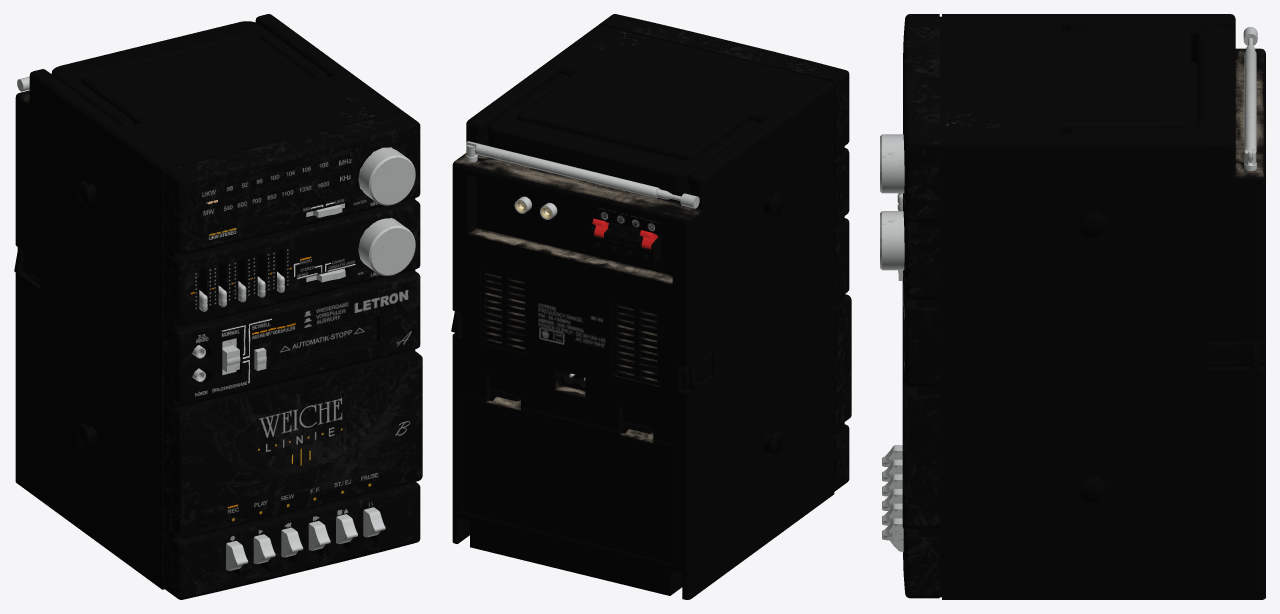
The picture shows the model from 3 angles, left to right: view 1: azimuth 30°, elevation 25°; view 2: azimuth 150°, elevation 25°; view 3: azimuth 270°, elevation 25°; orthographic projection. The views are drawn at different scales.
Parts seen in each view (by area): view 1: #APL0001_Body_38, #APL0001_Front_Face_30, #APL0001_Tape_Door_12, #APL0001_Handle_40, #APL0001_Tuner_35, Cylinder.004_37, #APL0001_Speed_5, #APL0001_Pause_7, #APL0001_Play_8; view 2: #APL0001_Body_38, #APL0001_Battery_Hatch_28, #APL0001_Front_Face_30, #APL0001_Handle_40, #APL0001_Grate_L_31, #APL0001_Grate_R_32, #APL0001_Antenna01_24, #APL0001_External_Speakers_Out_29; view 3: #APL0001_Body_38, #APL0001_Front_Face_30, #APL0001_Handle_40, Cylinder.004_37, #APL0001_Tuner_35, #APL0001_Antenna01_24, #APL0001_Tape_Door_12, #APL0001_Pause_7.
Part boxes in pixels (<box>): #APL0001_Body_38: <box>14,14,415,589</box>; #APL0001_Front_Face_30: <box>163,112,420,599</box>; #APL0001_Tape_Door_12: <box>178,353,422,538</box>; #APL0001_Handle_40: <box>51,21,327,126</box>; #APL0001_Tuner_35: <box>358,147,415,205</box>; Cylinder.004_37: <box>358,218,415,275</box>; #APL0001_Speed_5: <box>222,338,240,374</box>; #APL0001_Pause_7: <box>363,507,385,537</box>; #APL0001_Play_8: <box>253,534,275,564</box>; #APL0001_Body_38: <box>451,25,844,599</box>; #APL0001_Battery_Hatch_28: <box>462,389,677,564</box>; #APL0001_Front_Face_30: <box>599,14,849,491</box>; #APL0001_Handle_40: <box>488,73,758,201</box>; #APL0001_Grate_L_31: <box>481,267,527,353</box>; #APL0001_Grate_R_32: <box>613,300,659,385</box>; #APL0001_Antenna01_24: <box>466,141,659,198</box>; #APL0001_External_Speakers_Out_29: <box>590,225,661,263</box>; #APL0001_Body_38: <box>917,14,1265,599</box>; #APL0001_Front_Face_30: <box>903,14,939,598</box>; #APL0001_Handle_40: <box>1068,25,1235,138</box>; Cylinder.004_37: <box>880,211,904,270</box>; #APL0001_Tuner_35: <box>880,134,904,193</box>; #APL0001_Antenna01_24: <box>1244,49,1256,162</box>; #APL0001_Tape_Door_12: <box>902,281,907,528</box>; #APL0001_Pause_7: <box>882,518,903,552</box>.
Size of the model in its own units: 0.1655 by 0.2519 by 0.1907.
Materials: 2 (2 with a texture image).
